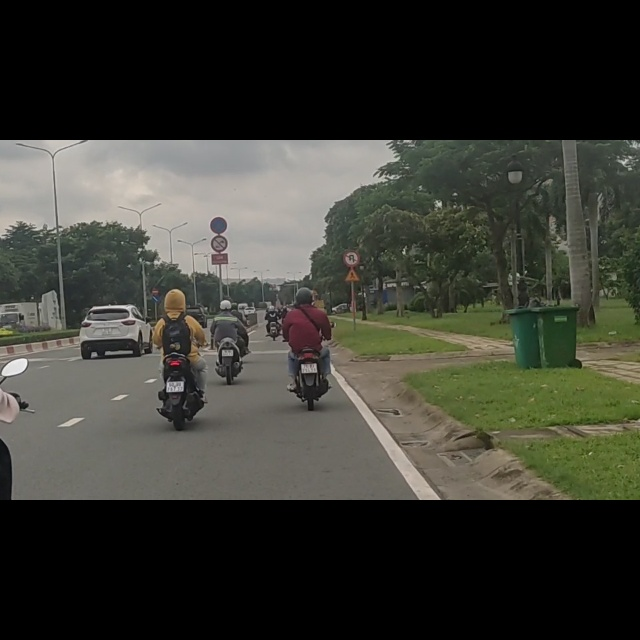bien_cam: (210, 136, 227, 166), (211, 169, 228, 199), (343, 197, 360, 225), (344, 225, 361, 251), (151, 262, 159, 275), (152, 275, 160, 288)
